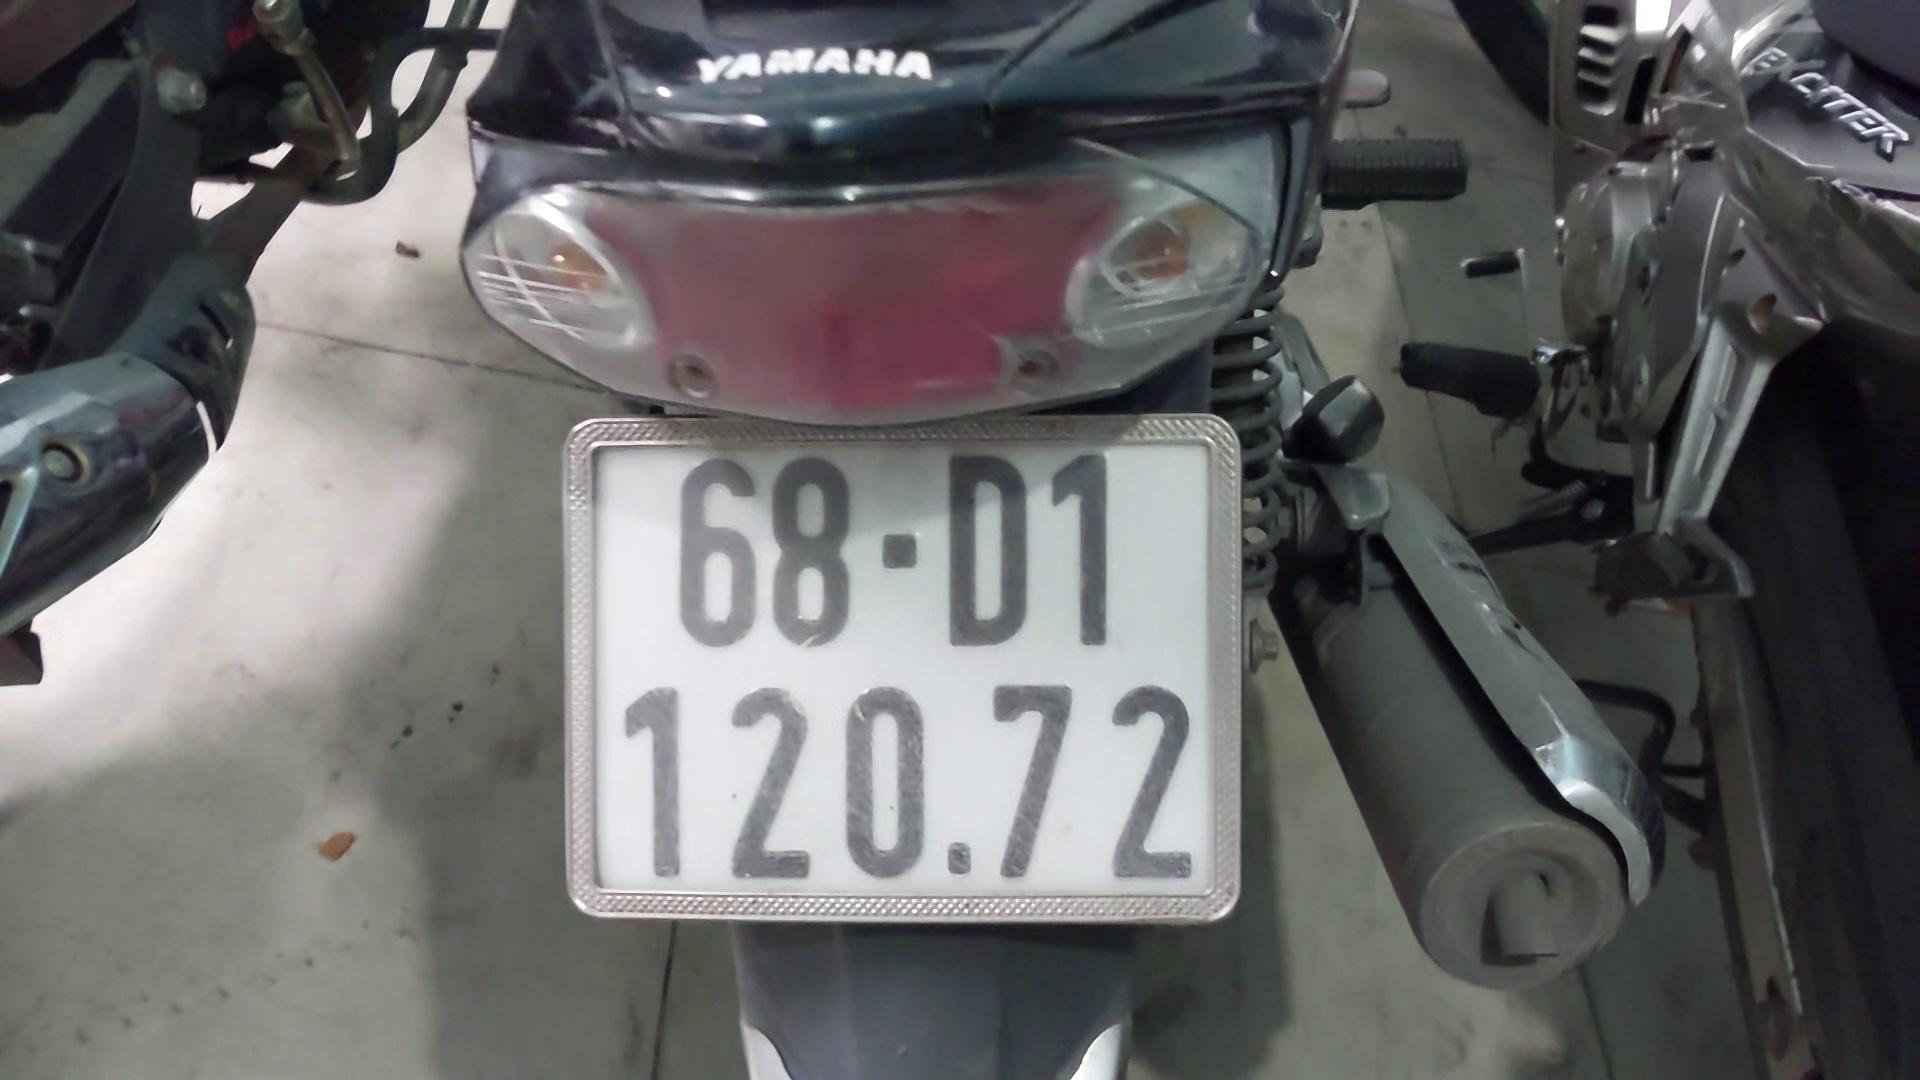numplate: (580, 430, 1230, 900)
